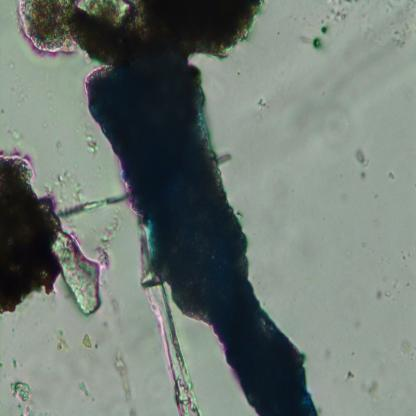Background material: (0, 149, 102, 315), (17, 0, 265, 62), (356, 0, 416, 54), (315, 81, 356, 141), (38, 166, 86, 210), (96, 211, 123, 264), (5, 377, 37, 415), (114, 346, 132, 408), (8, 68, 33, 106), (78, 126, 101, 160), (324, 0, 357, 21), (110, 291, 126, 330), (305, 24, 333, 46), (53, 327, 70, 353), (6, 126, 26, 148), (353, 151, 368, 180), (340, 364, 360, 385), (398, 239, 413, 266), (319, 338, 337, 360), (396, 341, 416, 359), (361, 388, 378, 408), (76, 378, 90, 400), (367, 285, 384, 300), (255, 97, 271, 112), (386, 167, 398, 182), (81, 332, 93, 347), (9, 354, 20, 370)
Cellulose filter fibre: (141, 224, 202, 415)
Fragment: (84, 61, 320, 413)
